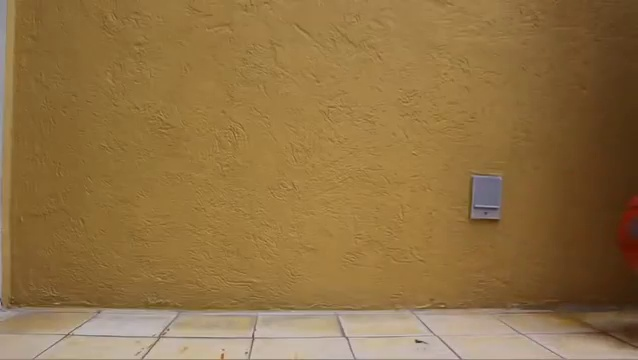ball: (618, 195, 638, 284)
